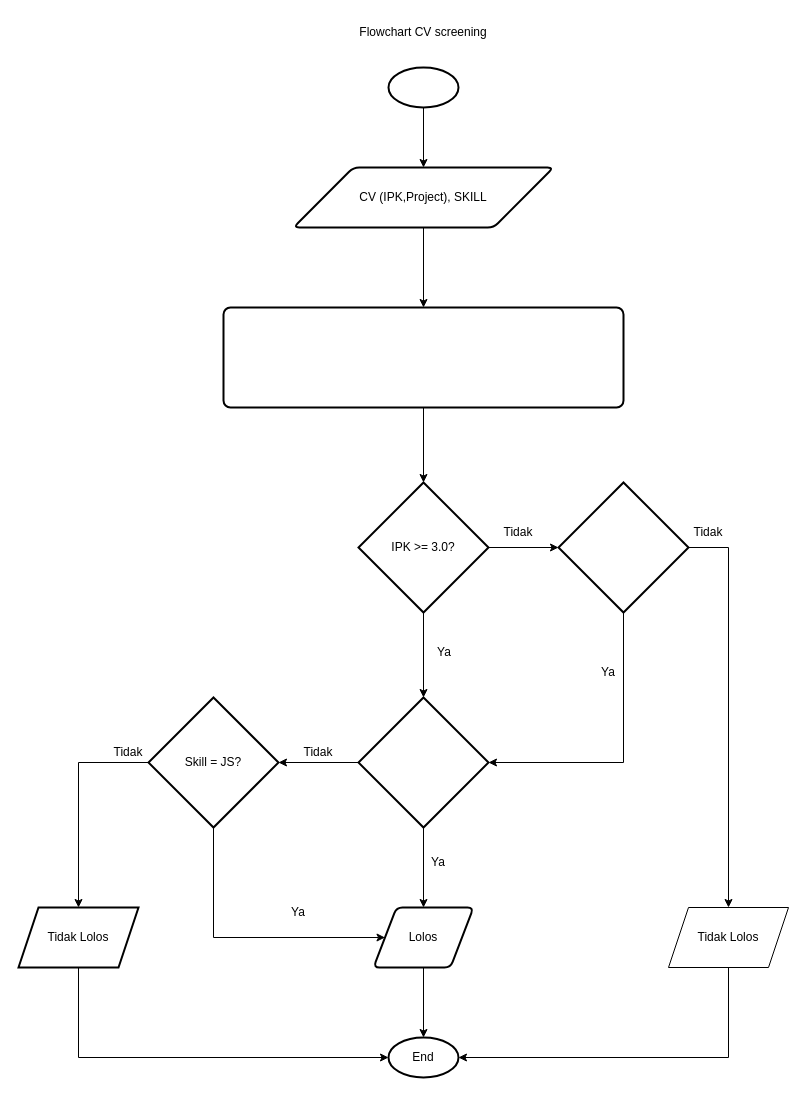
This 806x1095 diagram has some shape labels left out. Each missing label, with the centre of its shape:
2 Project Live?: point (623, 547)
Lolos = IPK >= 3.0 || 2 Project live && SKILL Python || JS: point (423, 357)
Skill = Python?: point (423, 762)
Start: point (423, 87)
